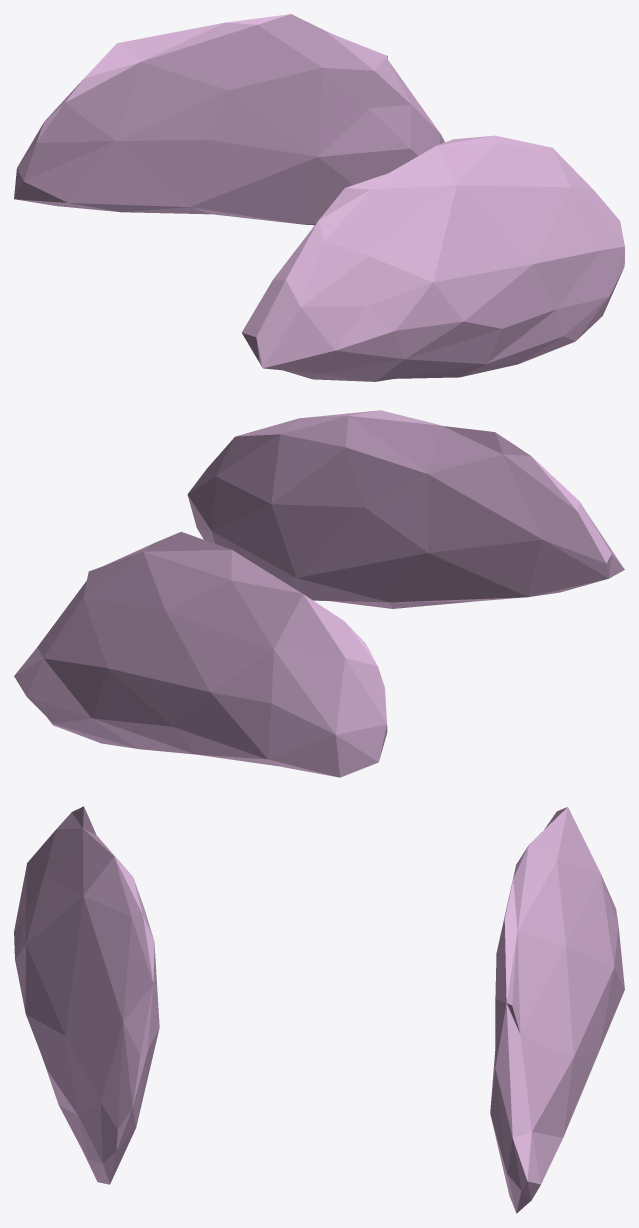
3 views of the same model, one above another, from view 1: azimuth 30°, elevation 25°; view 2: azimuth 150°, elevation 25°; view 3: azimuth 270°, elevation 25° (orthographic). The views are drawn at different scales.
Visible parts, largest first — view 1: 607344850.obj; view 2: 607344850.obj; view 3: 607344850.obj.
Boxes of the visible parts, box(x1,y1,x2,y2) form: 607344850.obj: box(14, 14, 624, 381); 607344850.obj: box(14, 410, 624, 777); 607344850.obj: box(14, 806, 624, 1213).
Size of the model in its own units: 496 by 276 by 562.
